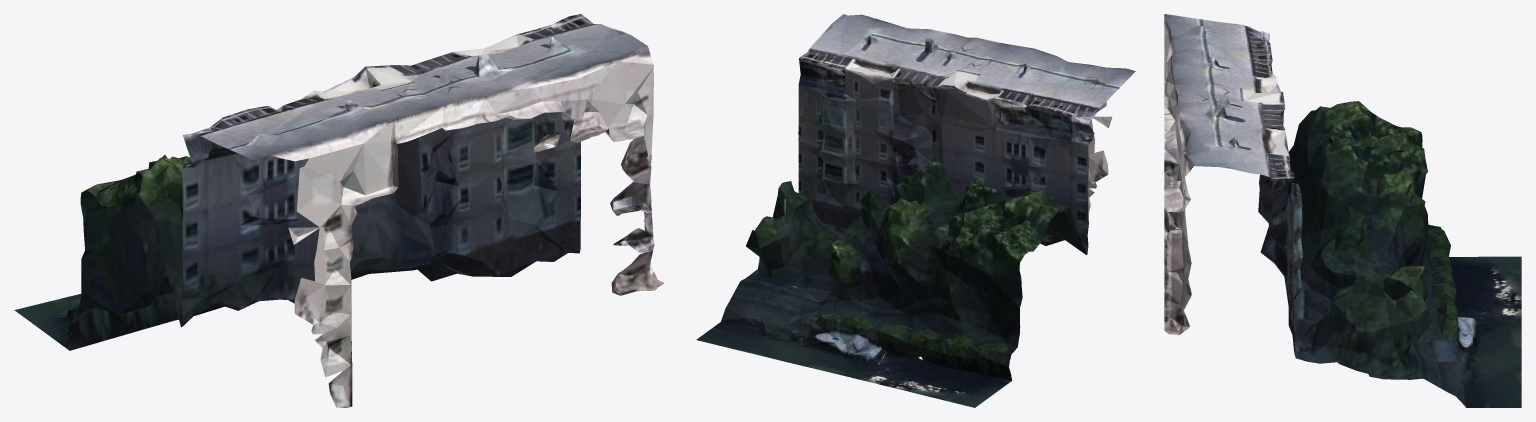
File: helsinki-3-2.glb
3 renders of one model, left to right at view 1: azimuth 30°, elevation 25°; view 2: azimuth 150°, elevation 25°; view 3: azimuth 270°, elevation 25°, orthographic. The views are drawn at different scales.
Bounding box in the file's own units: 31.75 × 24.66 × 31.75.
Materials: 1 (1 with a texture image).
